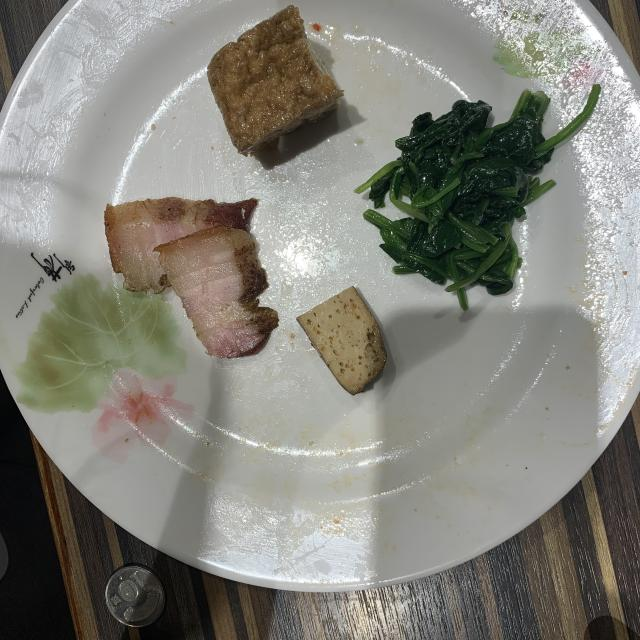coin: (105, 565, 165, 628)
egg tofu: (208, 5, 344, 155)
firm tofu: (296, 286, 386, 395)
grilled pork: (105, 198, 279, 358)
mustard greens: (356, 90, 596, 309)
